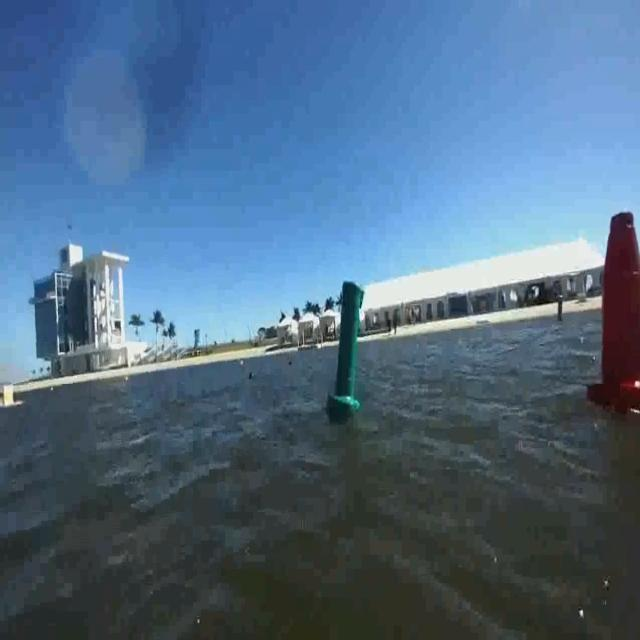green-column-buoy: (333, 278, 365, 414)
red-column-buoy: (588, 210, 640, 419)
